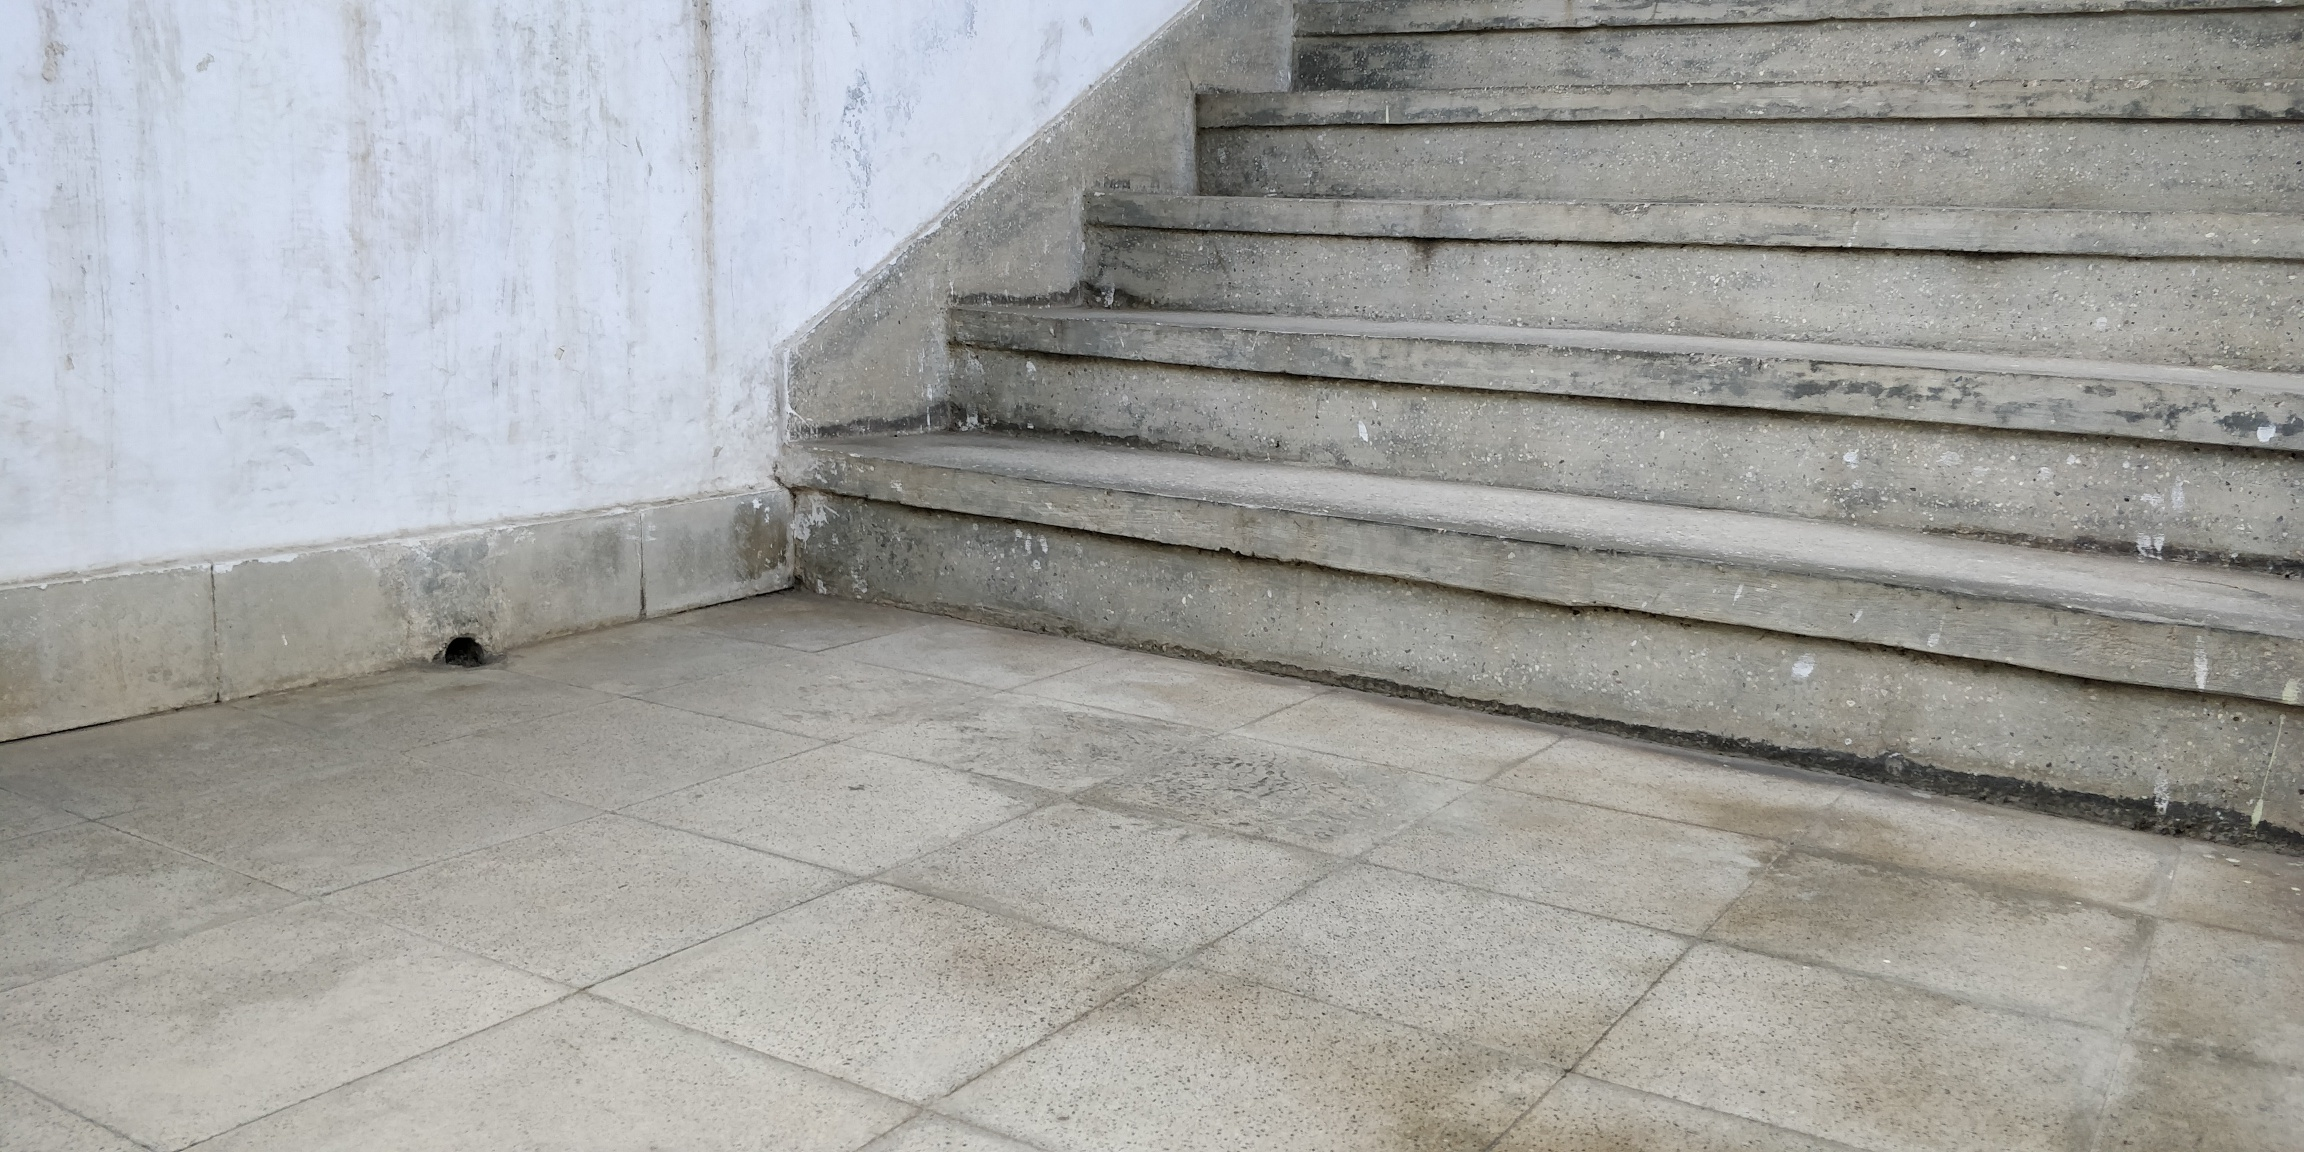stairs_up: (786, 10, 2304, 721)
